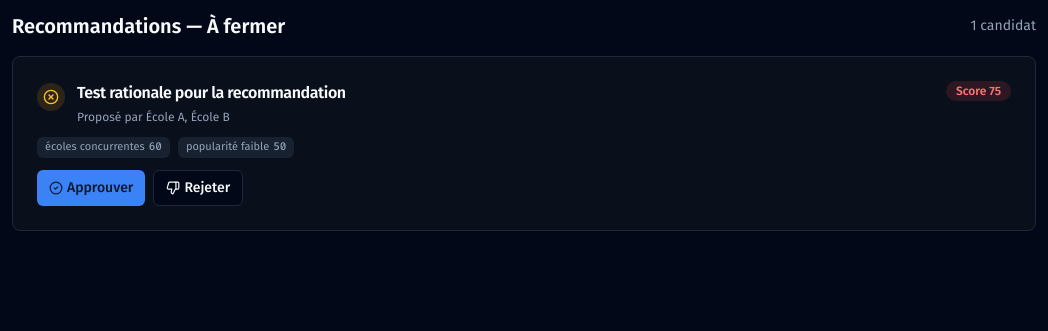
Test: GapRecommendationsList › removes card on approve
This screenshot has width=1048, height=331.
Check: the heading "Test rationale pour la recommandation" is shown, box [77,81,346,105]
What coordinates should you click on to do the following:
click the button "Approuver"
I would click on:
 (91, 188)
Its box is [37,170,145,206].
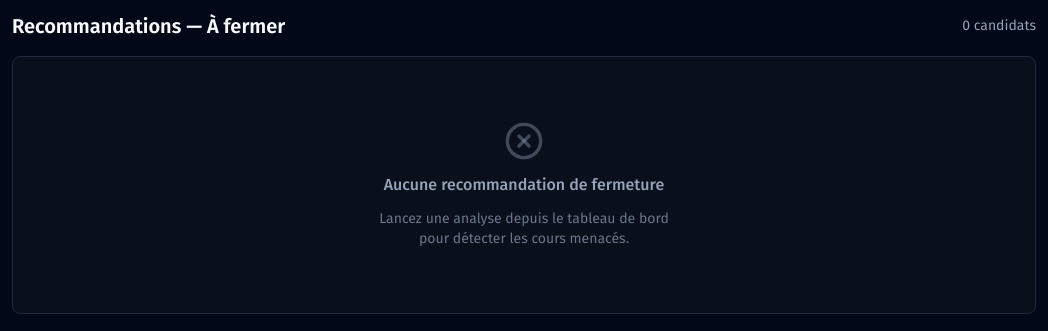
Check: the heading "Test rationale pour la recommandation" is gone
